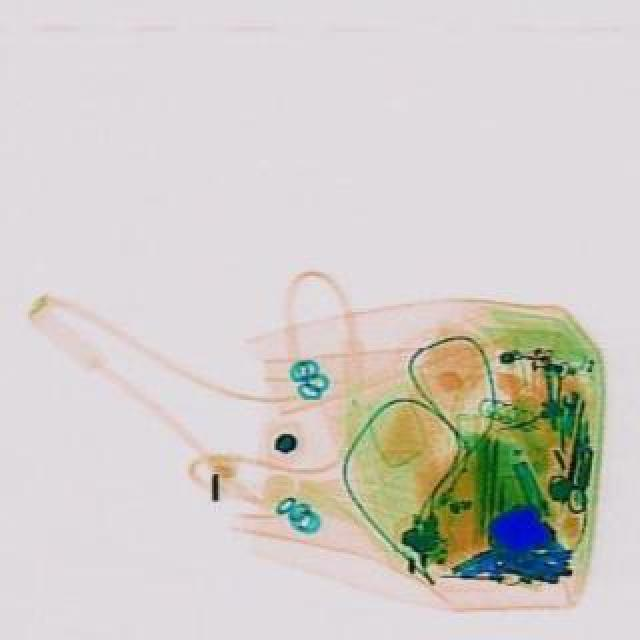pliers: (542, 420, 606, 518)
